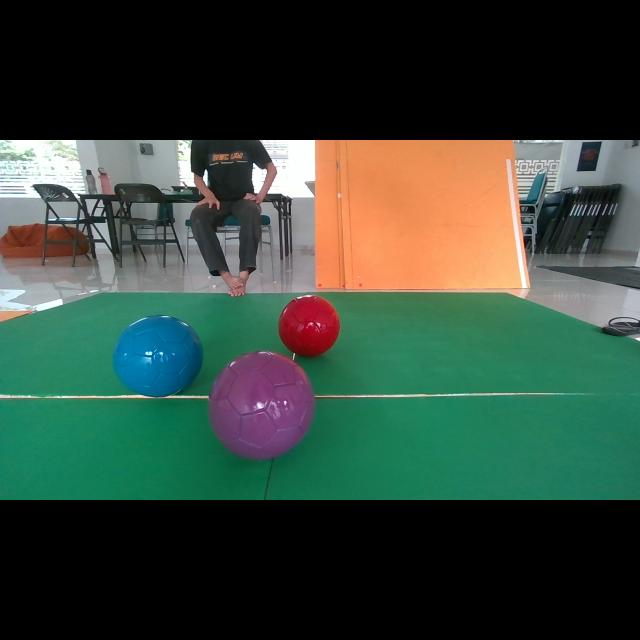B: (112, 315, 202, 397)
P: (209, 350, 315, 459)
R: (279, 295, 340, 356)
